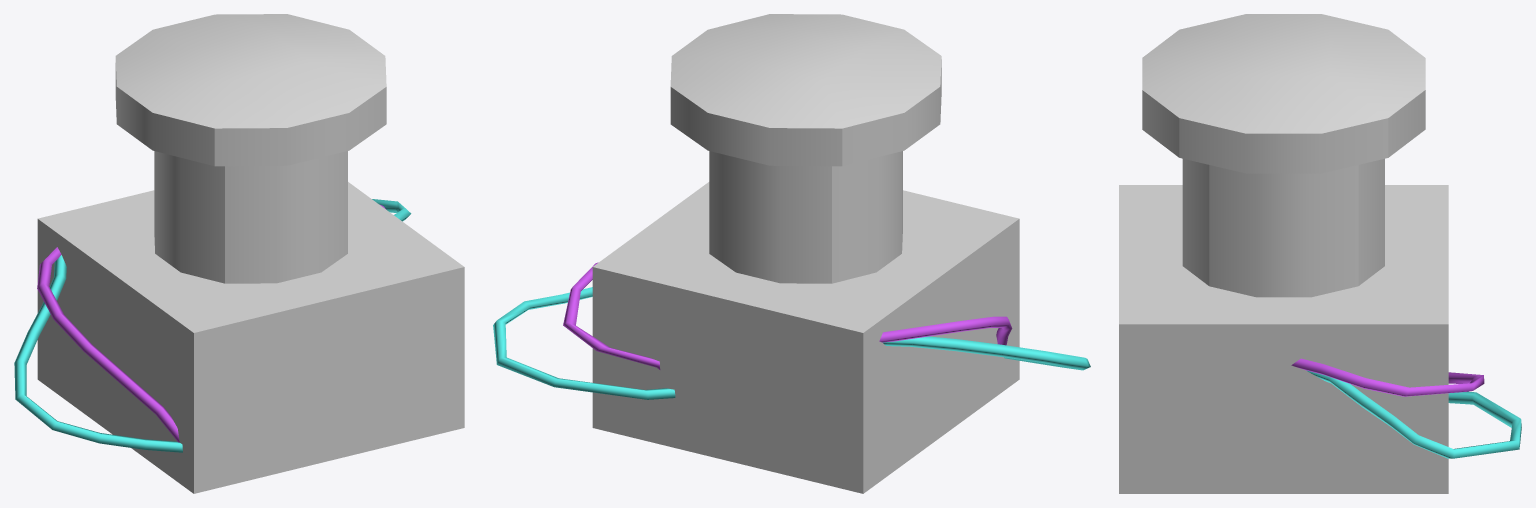
The model's file is Unity_Red-Button.fbx.
3 renders of one model, left to right at view 1: azimuth 30°, elevation 25°; view 2: azimuth 150°, elevation 25°; view 3: azimuth 270°, elevation 25°, orthographic. The views are drawn at different scales.
Visible parts, largest first — view 1: Cube.002, Cube.003, GeoCables; view 2: Cube.002, Cube.003, GeoCables.001, GeoCables; view 3: Cube.002, Cube.003, GeoCables.001.
Part boxes in pixels (x1,y1,x2,y2): Cube.002: (37,182,464,493); Cube.003: (115,14,386,283); GeoCables: (14,247,182,452); Cube.002: (592,182,1019,493); Cube.003: (670,14,941,283); GeoCables.001: (493,262,675,399); GeoCables: (879,316,1090,370); Cube.002: (1119,185,1448,493); Cube.003: (1142,14,1425,297); GeoCables.001: (1291,358,1521,458).
Bounding box in the file's own units: 63.88 × 43.3 × 43.03.
